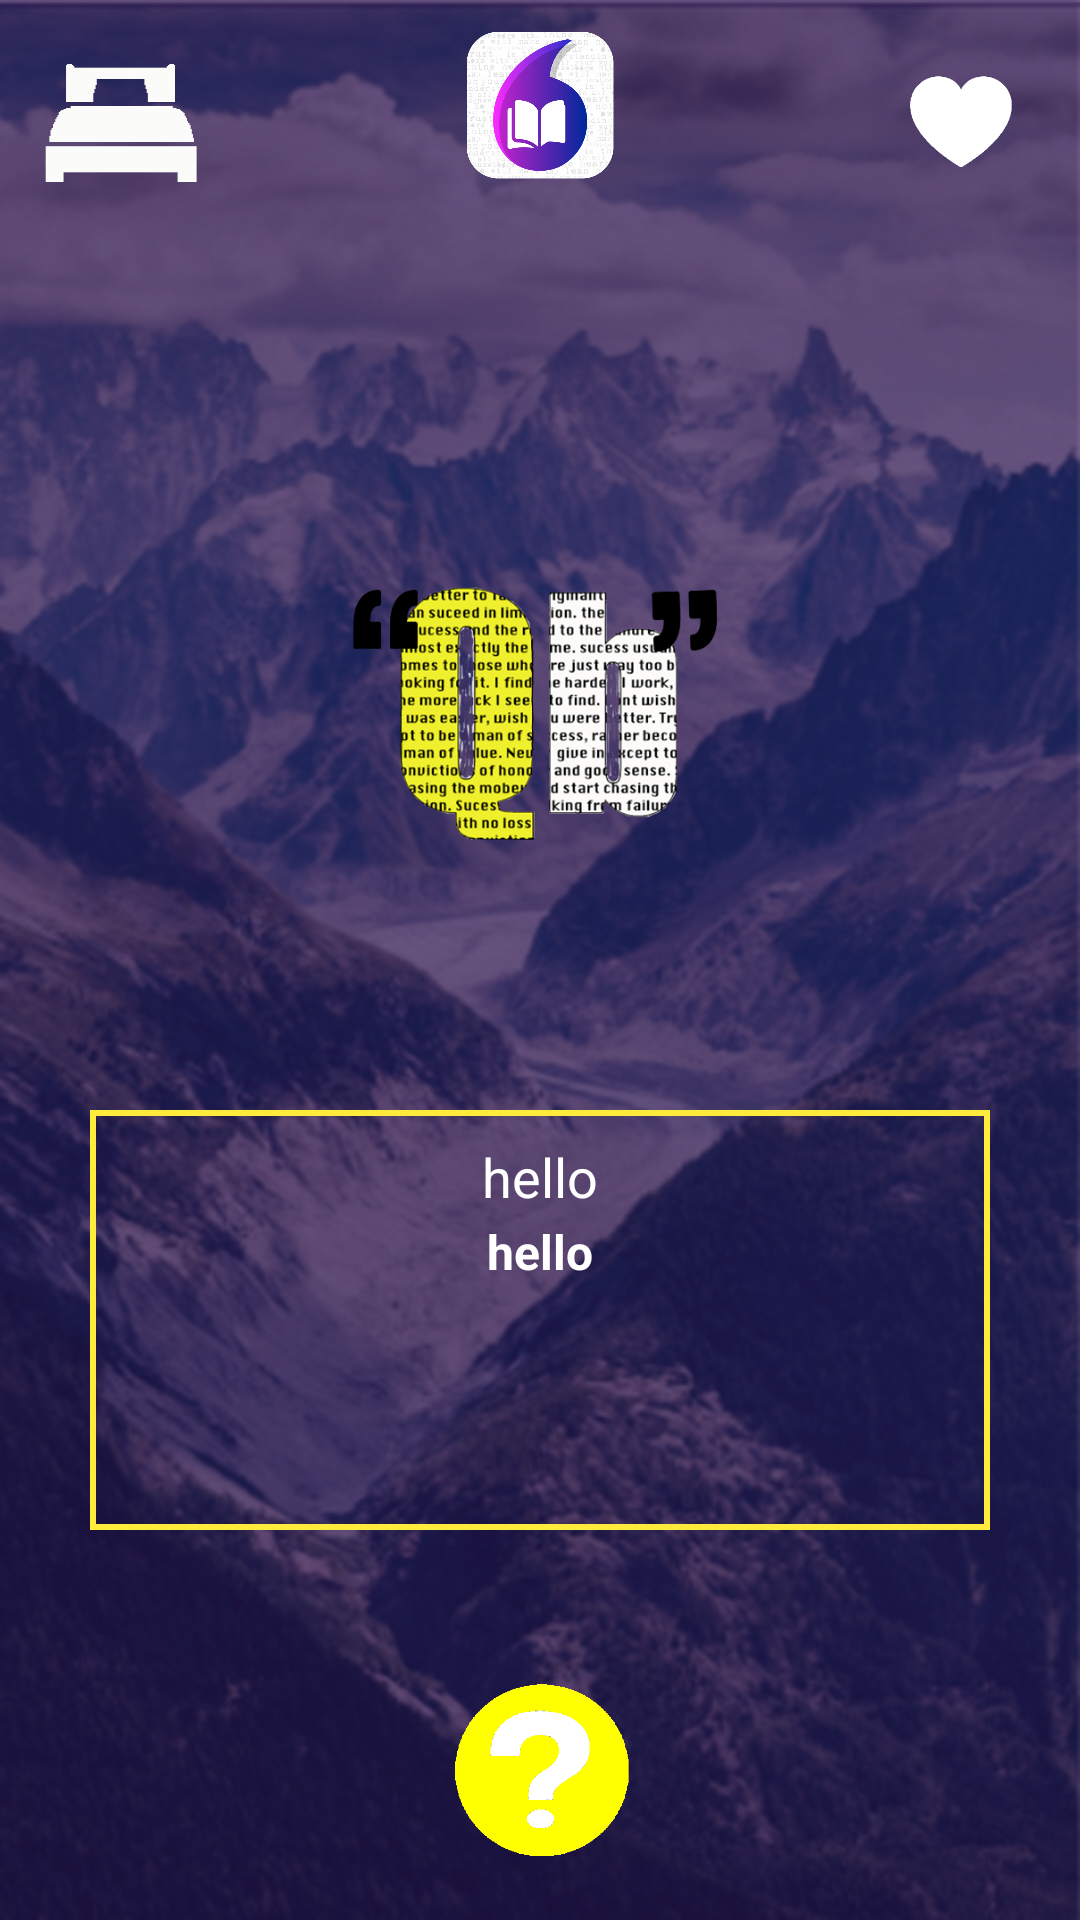

Icon bounding boxes for this 1080*1920 phone screenshot, format bbox=[x1, y1, x2, y2]:
bedicon: bbox=[0, 3, 240, 182]
whiteheart: bbox=[840, 4, 1012, 167]
